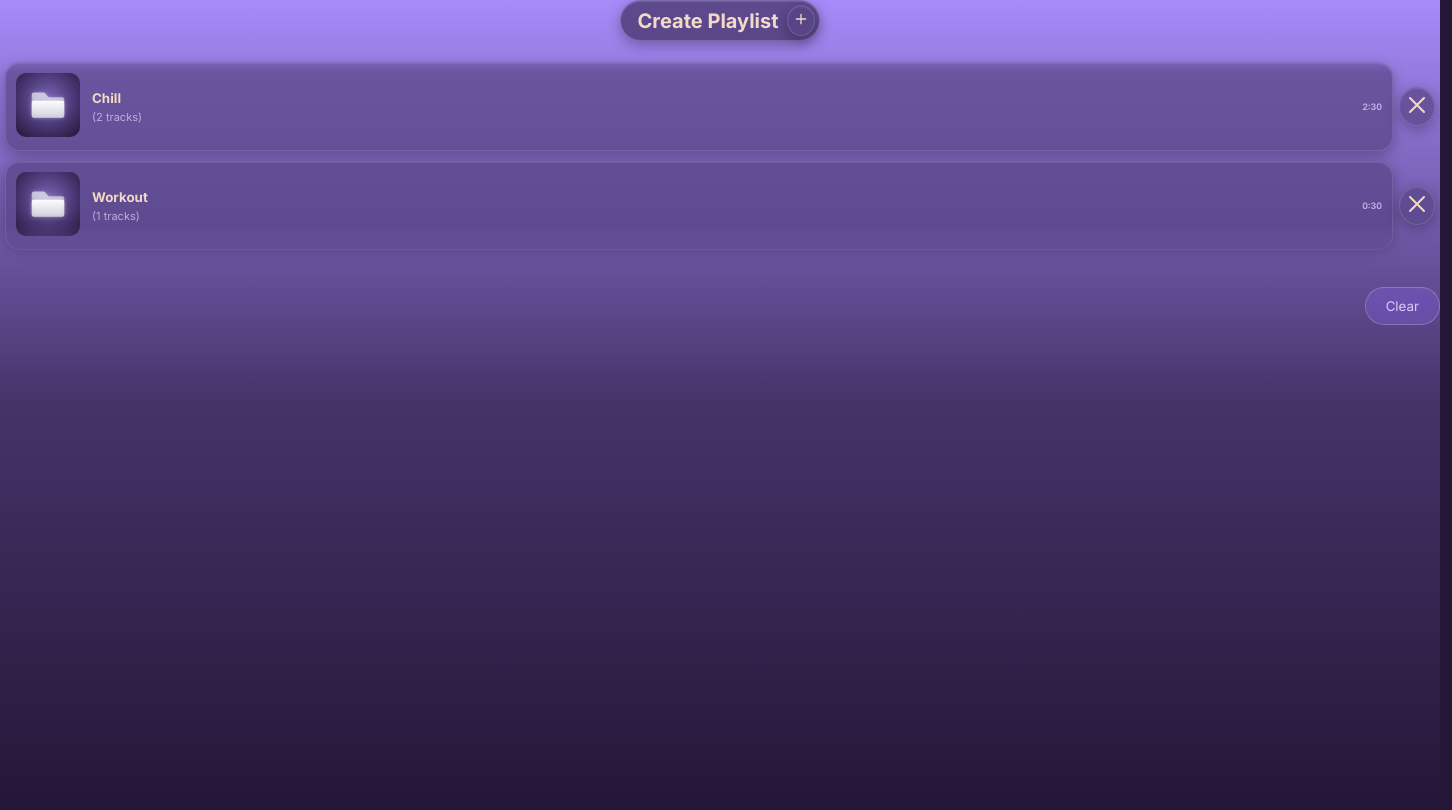
Test case: PlaylistSelectionList › folder view › deletes a playlist
This screenshot has width=1452, height=810.
Click the 1st button named "delete playlist" at (1417, 106), box top-left (1399, 87), bottom-right (1435, 126)
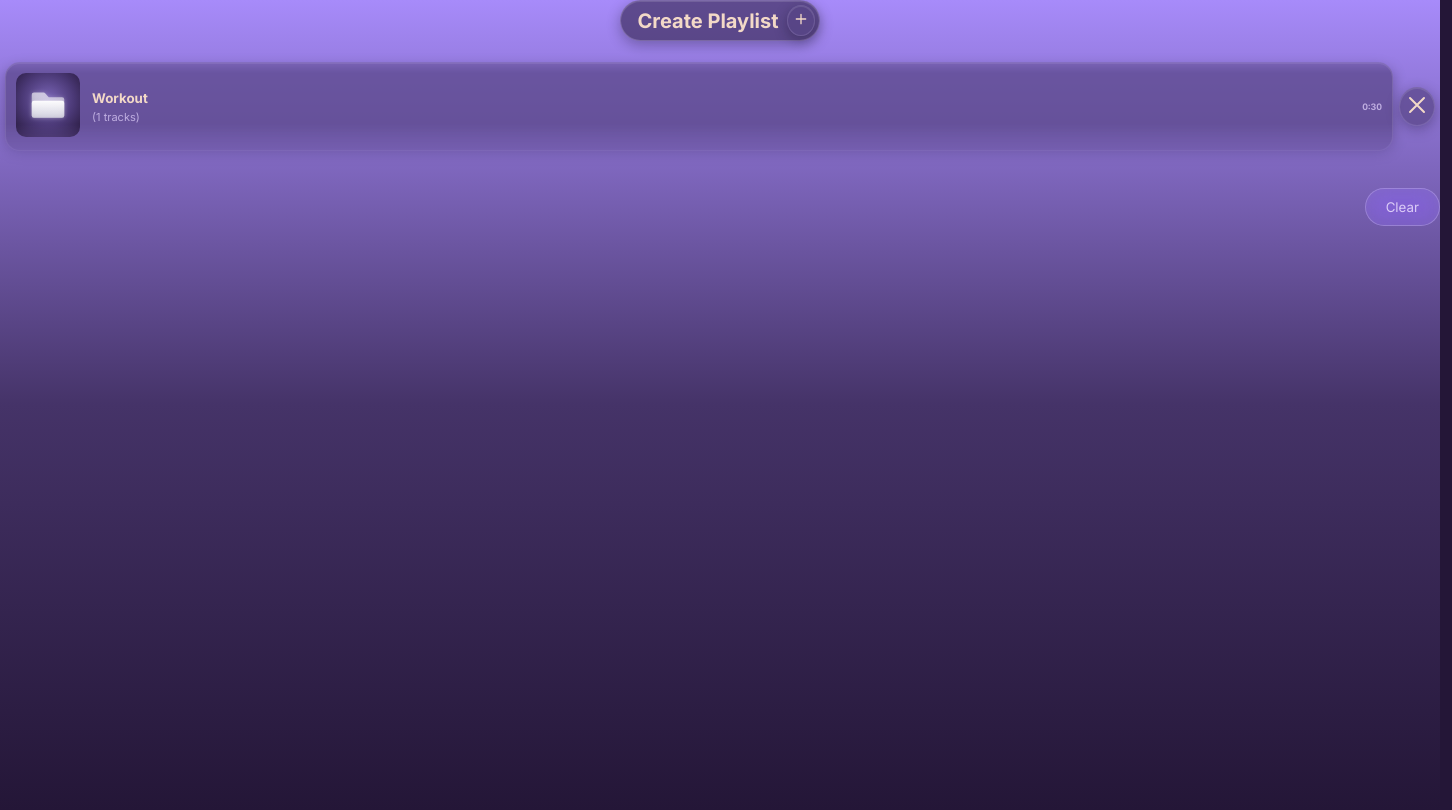
Check: the button "Chill" is gone
